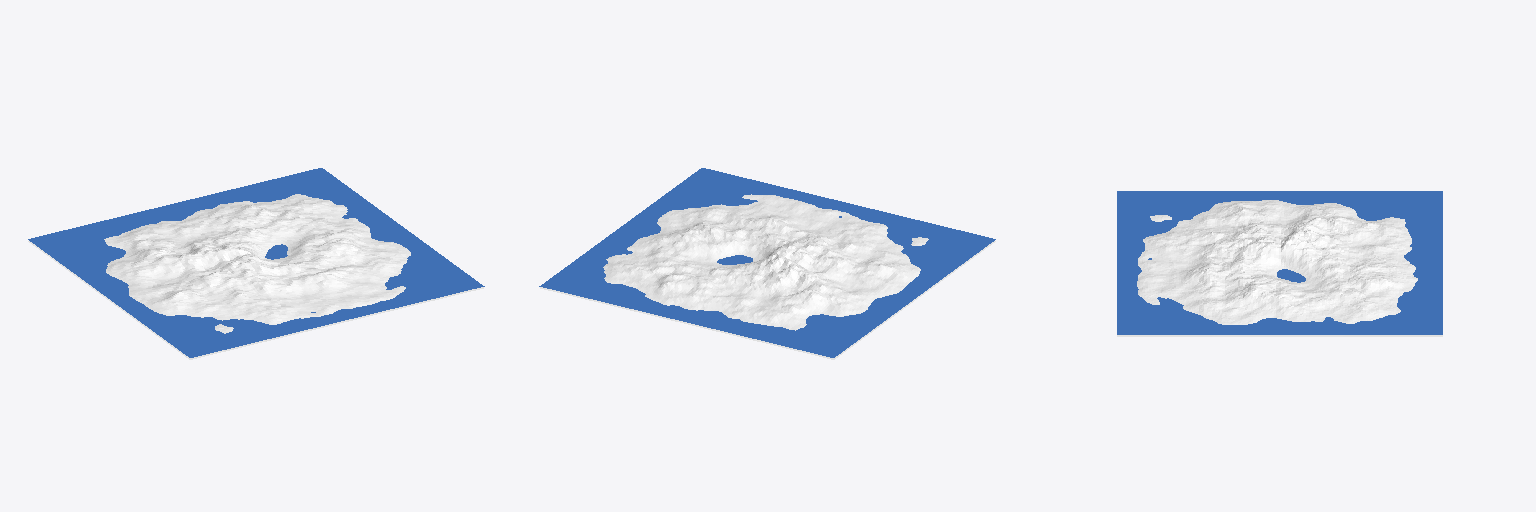
Rendered from island.obj.
3 renders of one model, left to right at view 1: azimuth 30°, elevation 25°; view 2: azimuth 150°, elevation 25°; view 3: azimuth 270°, elevation 25°, orthographic.
Parts seen in each view (by area): view 1: Landscape_plane; view 2: Landscape_plane; view 3: Landscape_plane.
Part boxes in pixels (x1,y1,x2,y2): Landscape_plane: (28, 168, 484, 359); Landscape_plane: (539, 168, 995, 359); Landscape_plane: (1117, 191, 1442, 336).
Bounding box in the file's own units: 10.45 × 0.5885 × 10.